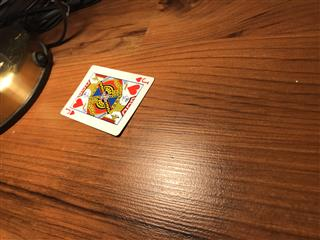JackOfHearts: (59, 64, 155, 136)
